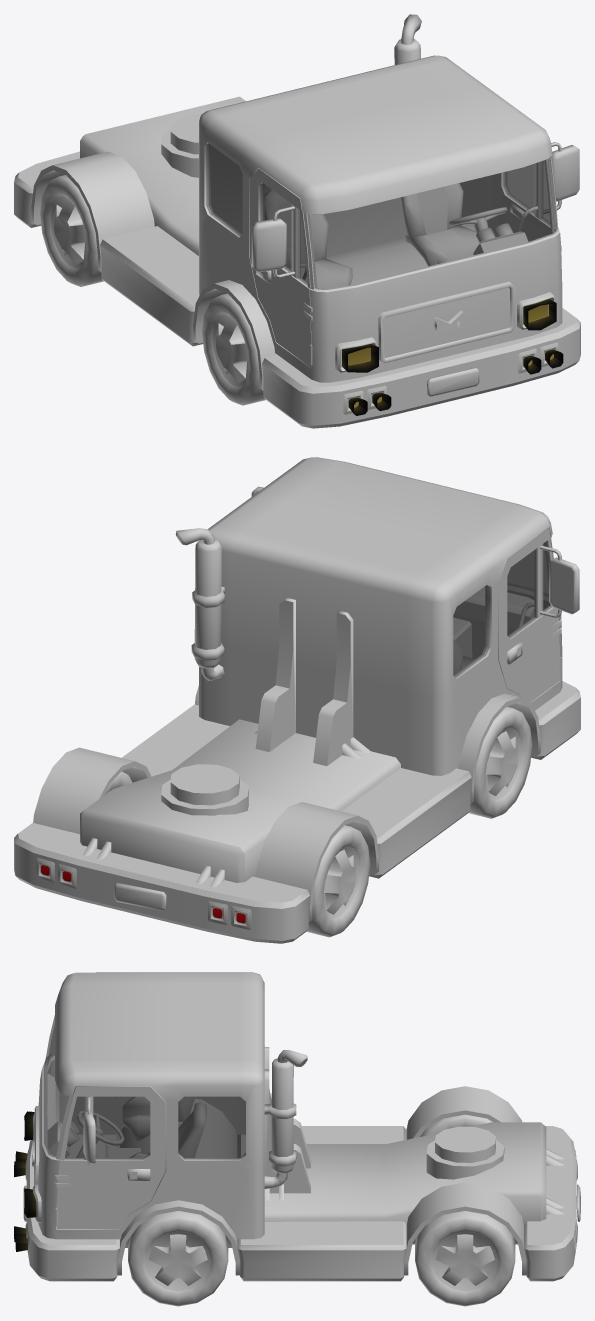
File: TP_Truck_Cabin_01C.fbx
3 renders of one model, top to bottom at view 1: azimuth 30°, elevation 25°; view 2: azimuth 150°, elevation 25°; view 3: azimuth 270°, elevation 25°, orthographic. The views are drawn at different scales.
Visible parts, largest first — view 1: TP_Truck_Cabin_01C_Body, TP_Truck_Cabin_01C_Door.R, TP_Truck_Cabin_01C_Door.L, TP_Truck_Cabin_01C_Wheel_R.R, TP_Truck_Cabin_01C_Wheel_F.R, TP_Truck_Cabin_01C_Headlights, TP_Truck_Cabin_01C_Steering_Wheel; view 2: TP_Truck_Cabin_01C_Body, TP_Truck_Cabin_01C_Door.R, TP_Truck_Cabin_01C_Wheel_F.R, TP_Truck_Cabin_01C_Wheel_R.R; view 3: TP_Truck_Cabin_01C_Body, TP_Truck_Cabin_01C_Door.L, TP_Truck_Cabin_01C_Wheel_R.L, TP_Truck_Cabin_01C_Wheel_F.L, TP_Truck_Cabin_01C_Headlights, TP_Truck_Cabin_01C_Door.R, TP_Truck_Cabin_01C_Wheel_R.R, TP_Truck_Cabin_01C_Steering_Wheel.
Boxes of the visible parts, left/top/right/bottom form: TP_Truck_Cabin_01C_Body: left=14, top=14, right=580, bottom=428; TP_Truck_Cabin_01C_Door.R: left=250, top=168, right=312, bottom=367; TP_Truck_Cabin_01C_Door.L: left=491, top=142, right=579, bottom=256; TP_Truck_Cabin_01C_Wheel_R.R: left=40, top=175, right=103, bottom=286; TP_Truck_Cabin_01C_Wheel_F.R: left=202, top=293, right=265, bottom=405; TP_Truck_Cabin_01C_Headlights: left=342, top=299, right=563, bottom=415; TP_Truck_Cabin_01C_Steering_Wheel: left=449, top=207, right=507, bottom=233; TP_Truck_Cabin_01C_Body: left=14, top=457, right=580, bottom=943; TP_Truck_Cabin_01C_Door.R: left=498, top=527, right=579, bottom=702; TP_Truck_Cabin_01C_Wheel_F.R: left=468, top=706, right=532, bottom=818; TP_Truck_Cabin_01C_Wheel_R.R: left=306, top=825, right=370, bottom=937; TP_Truck_Cabin_01C_Body: left=23, top=972, right=580, bottom=1281; TP_Truck_Cabin_01C_Door.L: left=55, top=1086, right=166, bottom=1228; TP_Truck_Cabin_01C_Wheel_R.L: left=415, top=1211, right=515, bottom=1306; TP_Truck_Cabin_01C_Wheel_F.L: left=128, top=1211, right=228, bottom=1306; TP_Truck_Cabin_01C_Headlights: left=14, top=1111, right=36, bottom=1251; TP_Truck_Cabin_01C_Door.R: left=59, top=1092, right=132, bottom=1124; TP_Truck_Cabin_01C_Wheel_R.R: left=420, top=1114, right=492, bottom=1136; TP_Truck_Cabin_01C_Steering_Wheel: left=76, top=1111, right=124, bottom=1157.
Size of the model in its own units: 3.63 by 2.92 by 6.17.
